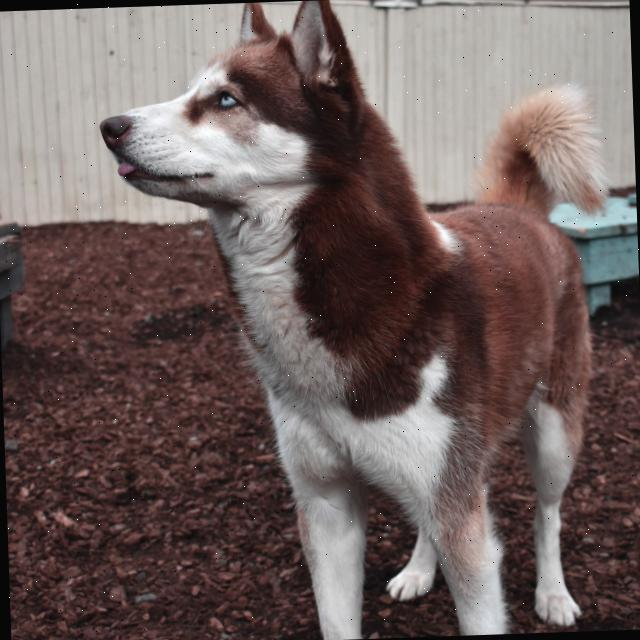siberian_husky_dog: (77, 0, 400, 245)
